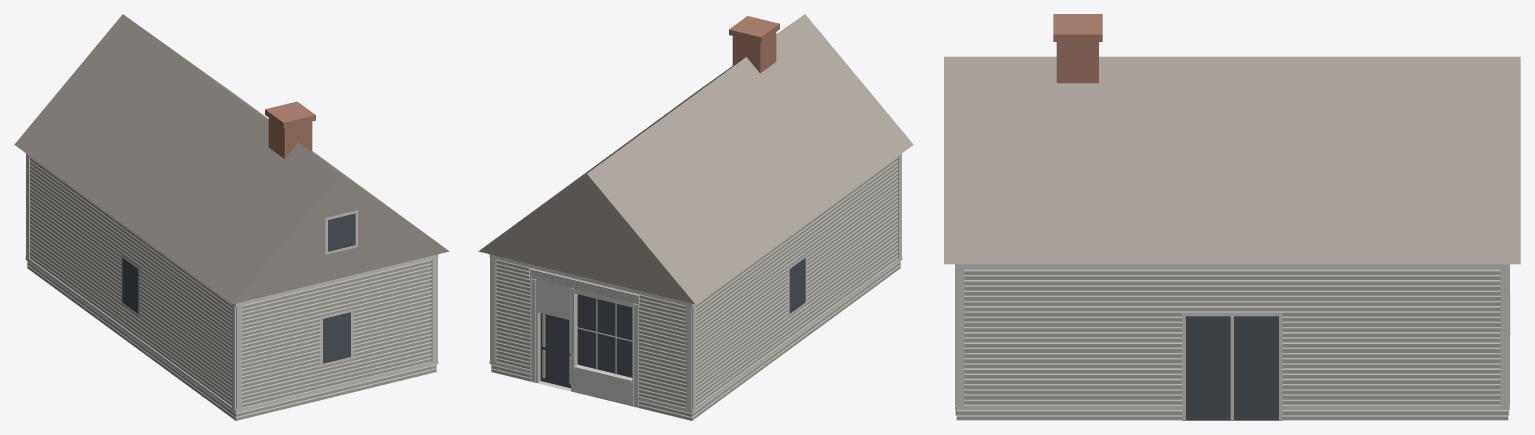
File: recon_1835_west_020__inferred_1835.glb
3 views of the same model, side by side, from view 1: azimuth 30°, elevation 25°; view 2: azimuth 150°, elevation 25°; view 3: azimuth 270°, elevation 25° (orthographic). The views are drawn at different scales.
Visible parts, largest first — view 1: recon_1835_west_020__inferred_1835; view 2: recon_1835_west_020__inferred_1835; view 3: recon_1835_west_020__inferred_1835.
Boxes of the visible parts, x1,y1,x2,y2 form: recon_1835_west_020__inferred_1835: (14,14,449,420); recon_1835_west_020__inferred_1835: (478,14,913,420); recon_1835_west_020__inferred_1835: (944,14,1520,420).
Bounding box in the file's own units: 6.6 × 7.27 × 11.51.
